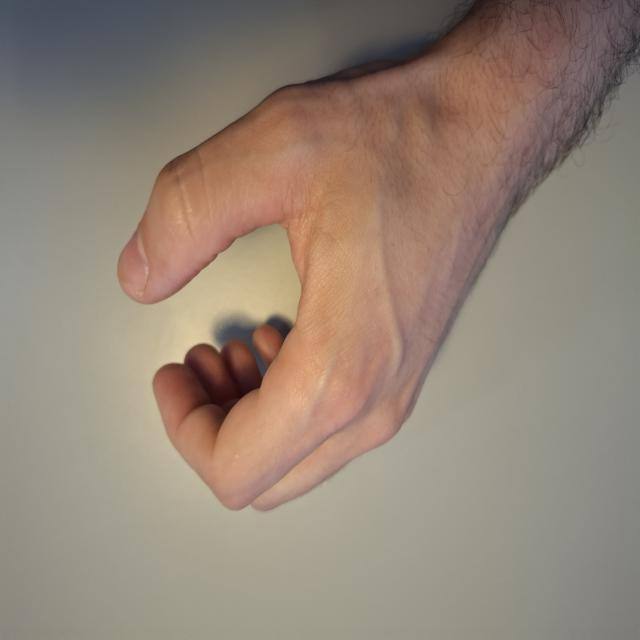glove_off: (115, 12, 550, 516)
